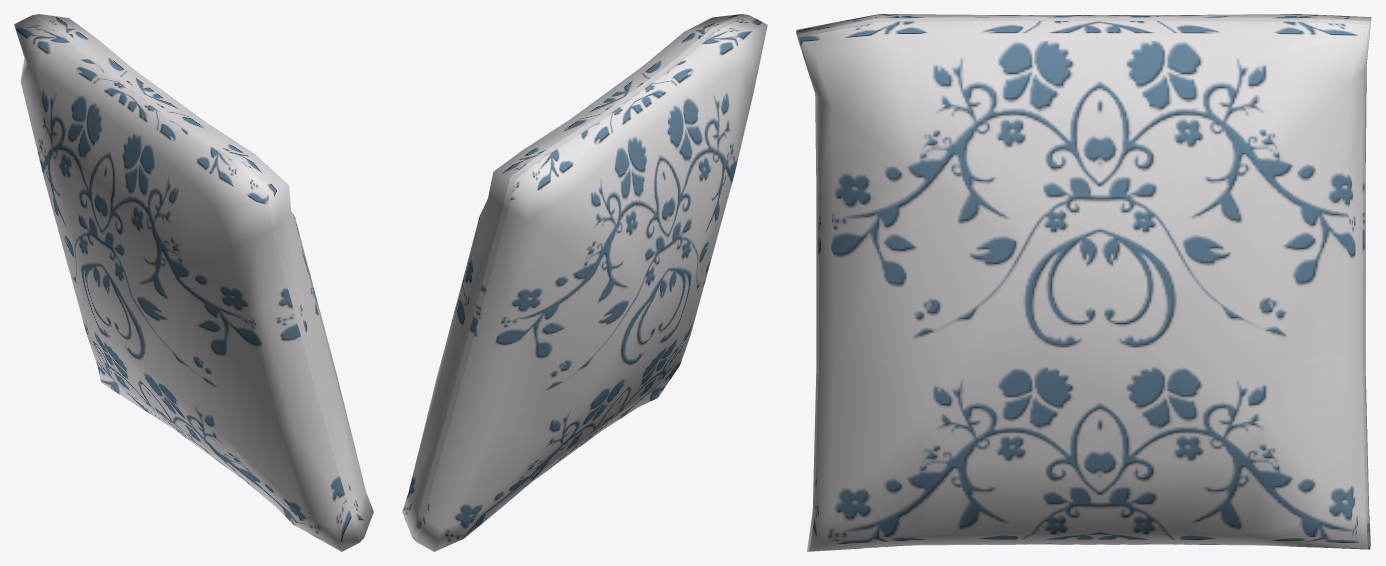
The model's file is Bedpillowlarge.FBX.
3 views of the same model, side by side, from view 1: azimuth 30°, elevation 25°; view 2: azimuth 150°, elevation 25°; view 3: azimuth 270°, elevation 25° (orthographic). The views are drawn at different scales.
Visible parts, largest first — view 1: pillow; view 2: pillow; view 3: pillow.
Part boxes in pixels (box(x1,y1,x2,y2)): pillow: box(14, 14, 373, 551); pillow: box(402, 14, 767, 551); pillow: box(796, 14, 1371, 551).
Bounding box in the file's own units: 30.41 × 66.39 × 72.01.
1 material, 1 textured.
